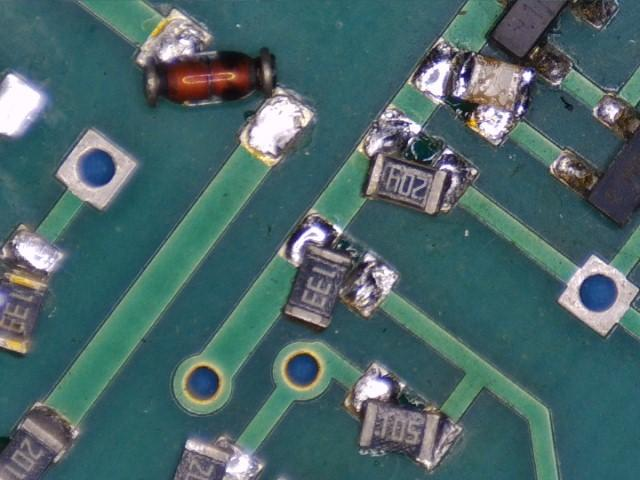Incorrect_installation: (132, 7, 318, 170), (276, 208, 402, 331), (408, 39, 538, 150), (356, 104, 482, 218), (341, 361, 467, 474), (1, 222, 69, 357), (173, 435, 267, 480)
